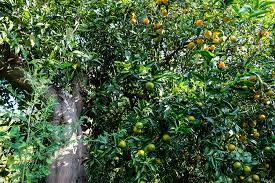orange: (203, 29, 213, 39)
